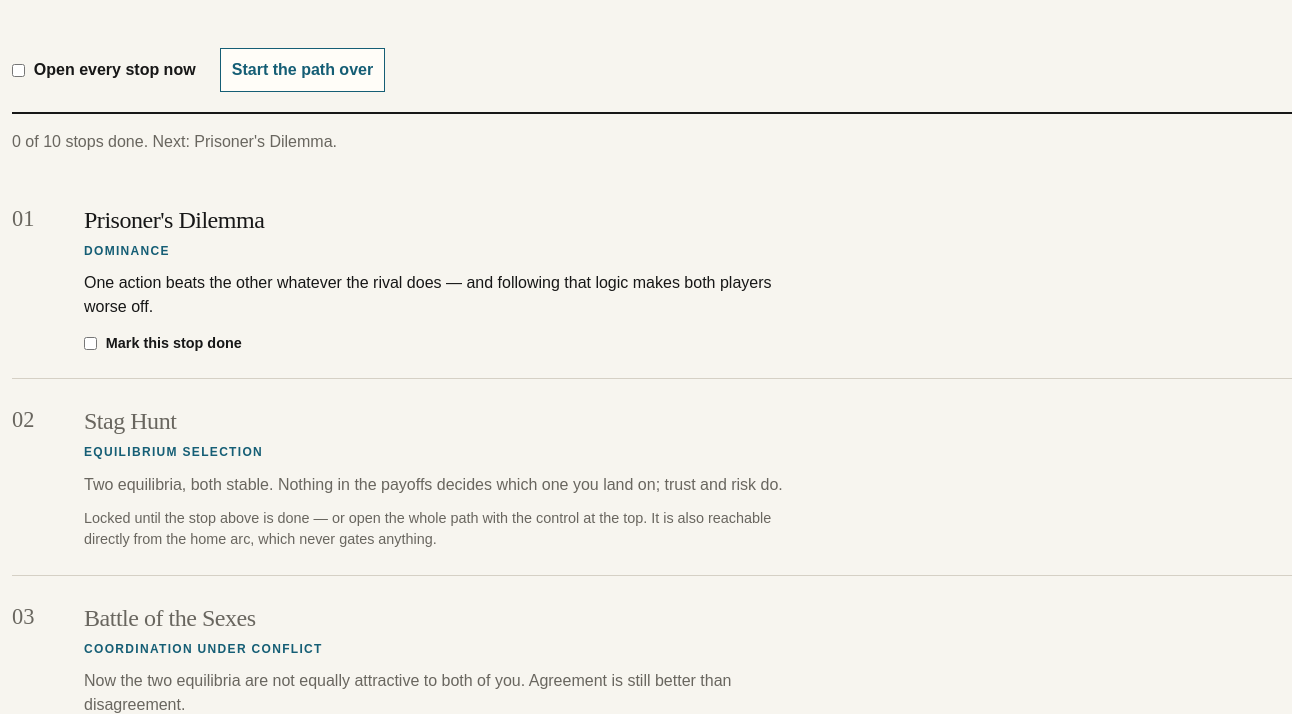
Test: V2-P10 curriculum path surface › opens every stop from the single gate control
Click the checkbox labelled "Open every stop now" at (18, 70), box [12,64,25,76]
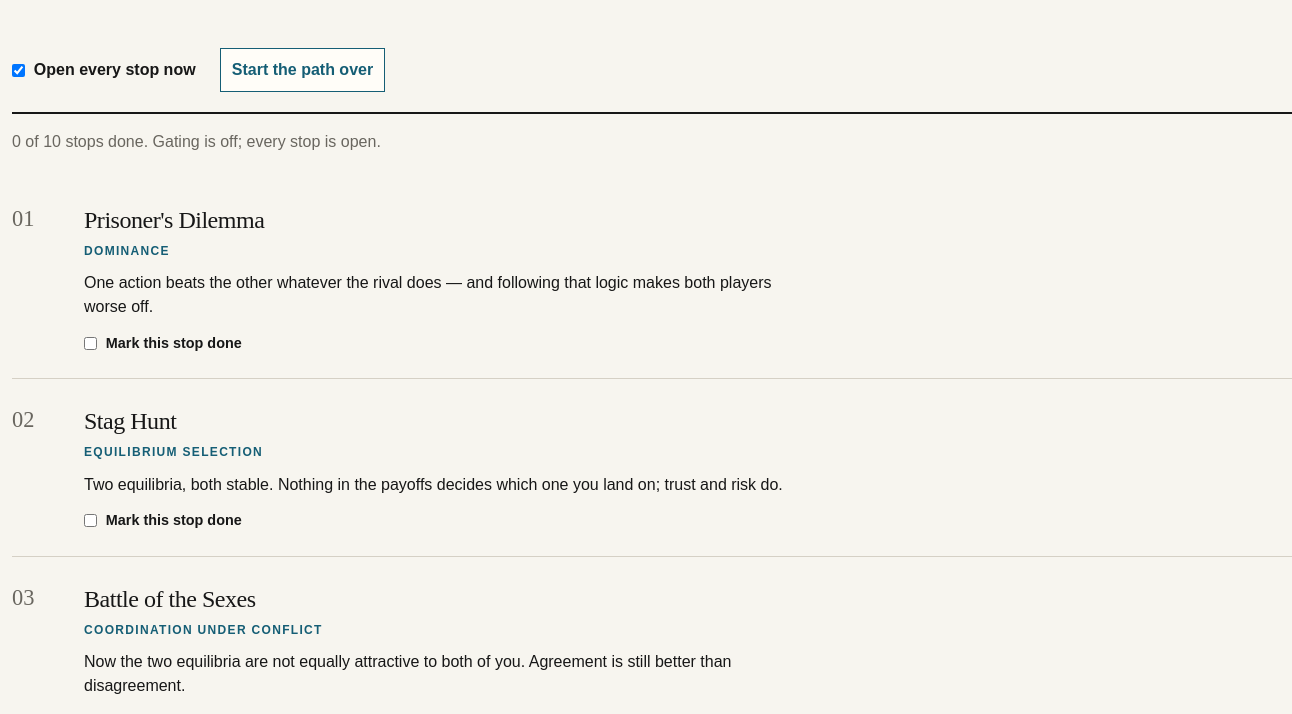
Expected: the link "Prisoner's Dilemma" is shown, [84,207,264,233]
Now the message shows "Gating is off; every stop is open.", box [153,133,381,150]
